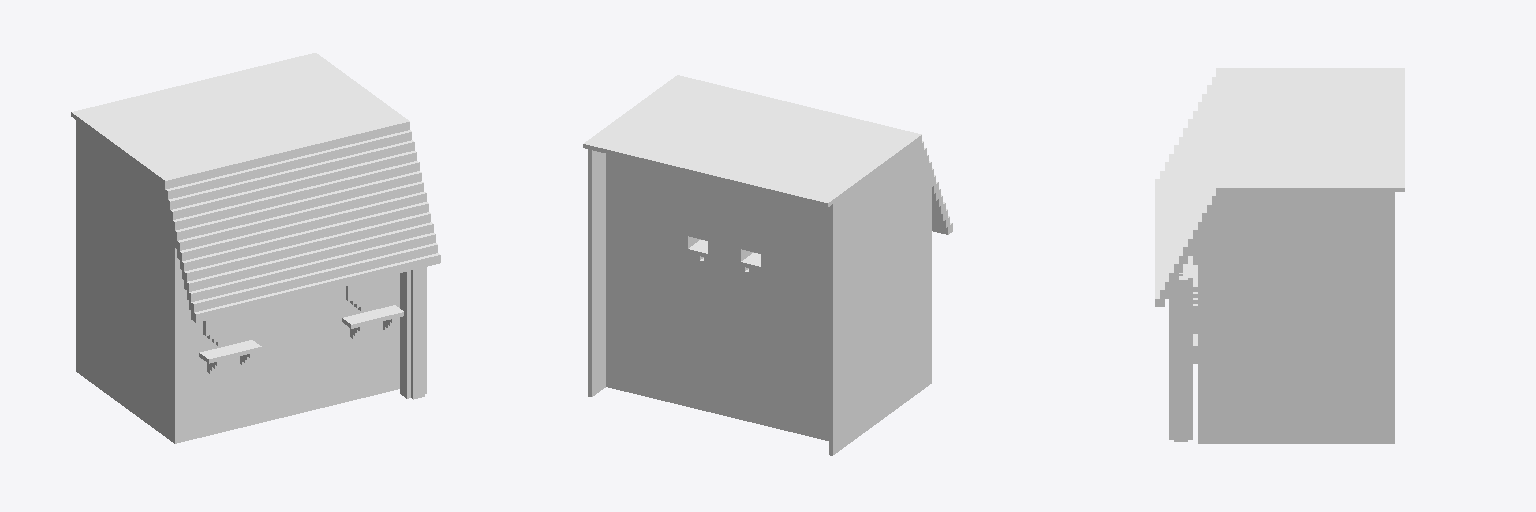
Rendered from HOME_1.obj.
3 renders of one model, left to right at view 1: azimuth 30°, elevation 25°; view 2: azimuth 150°, elevation 25°; view 3: azimuth 270°, elevation 25°, orthographic.
Parts seen in each view (by area): view 1: HOME_1; view 2: HOME_1; view 3: HOME_1.
Part boxes in pixels (bbox=[...]): HOME_1: bbox=[71, 53, 440, 443]; HOME_1: bbox=[583, 75, 952, 455]; HOME_1: bbox=[1155, 68, 1404, 443].
Size of the model in its own units: 60 by 60 by 53.